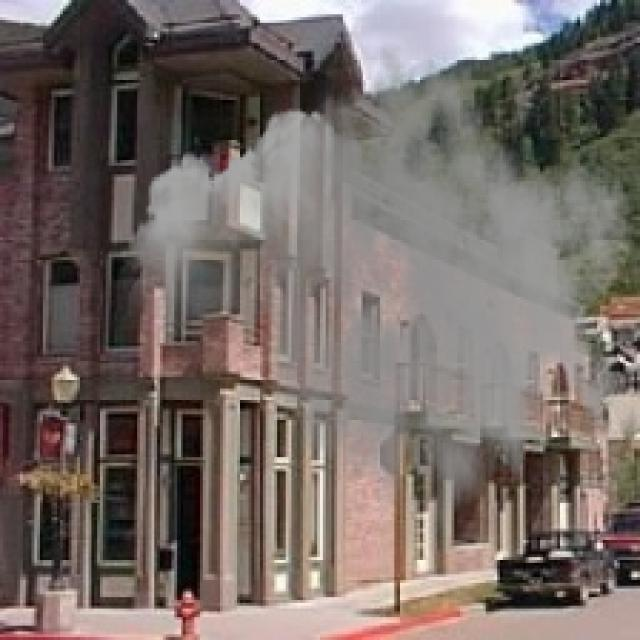Smoke: (120, 43, 637, 563)
